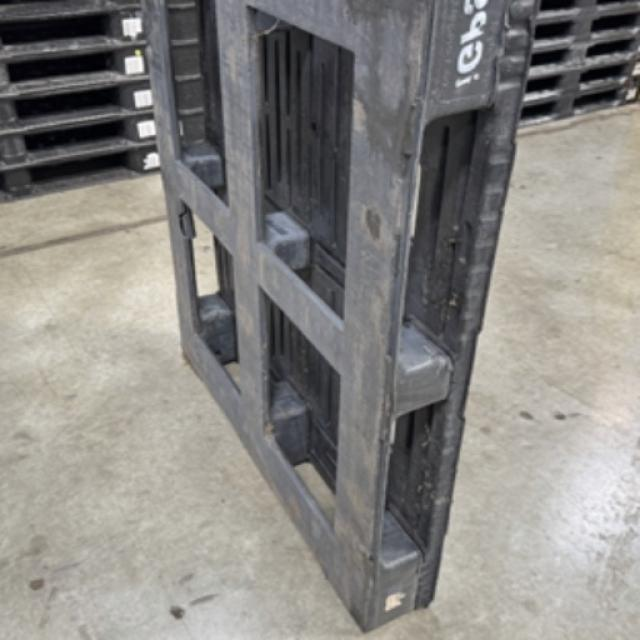igps: (135, 0, 547, 634), (0, 0, 169, 208), (510, 0, 640, 130)
